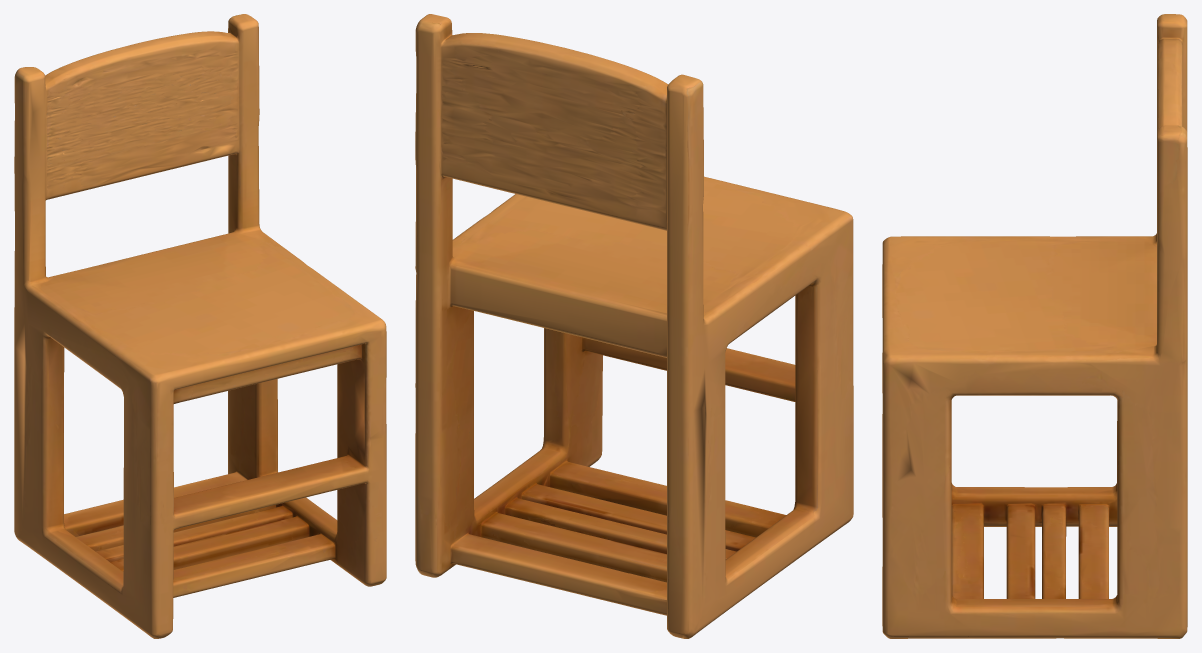
Rendered from chair.glb.
3 renders of one model, left to right at view 1: azimuth 30°, elevation 25°; view 2: azimuth 150°, elevation 25°; view 3: azimuth 270°, elevation 25°, orthographic. The views are drawn at different scales.
Parts seen in each view (by area): view 1: node_0; view 2: node_0; view 3: node_0.
Part boxes in pixels (bbox=[...]): node_0: bbox=[14, 14, 386, 638]; node_0: bbox=[415, 14, 853, 638]; node_0: bbox=[882, 14, 1187, 638].
Size of the model in its own units: 0.5096 by 0.9717 by 0.531.
Materials: 1 (1 with a texture image).
